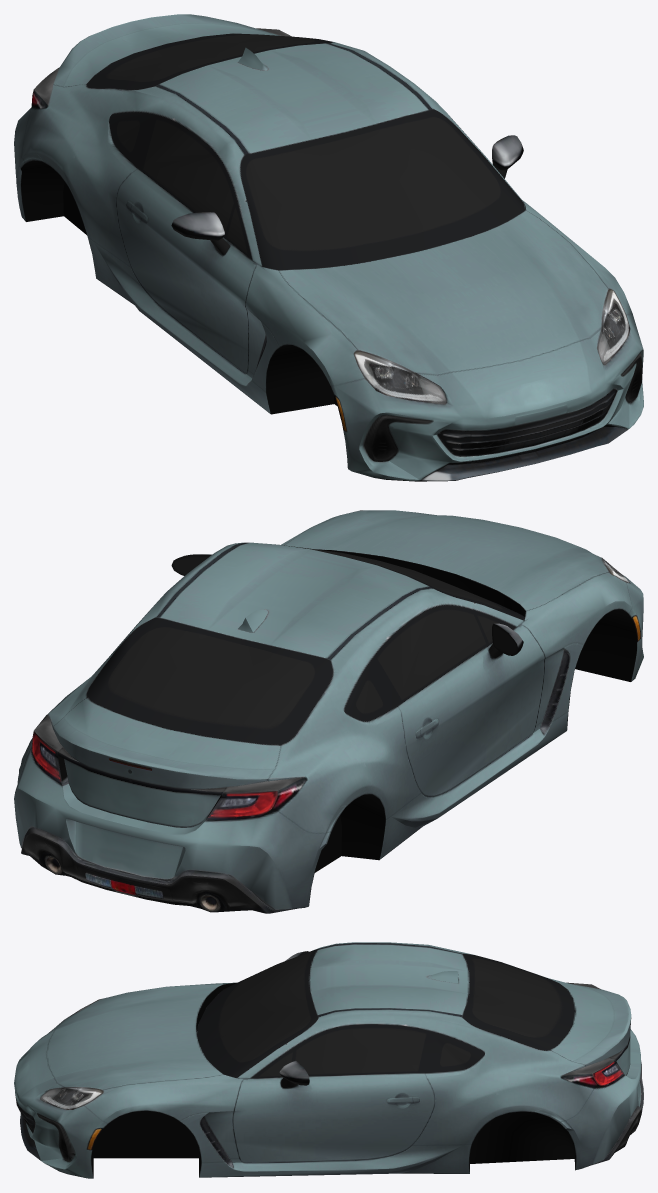
Rendered from car 9.fbx.
3 renders of one model, top to bottom at view 1: azimuth 30°, elevation 25°; view 2: azimuth 150°, elevation 25°; view 3: azimuth 270°, elevation 25°, orthographic. The views are drawn at different scales.
Parts seen in each view (by area): view 1: Car_7; view 2: Car_7; view 3: Car_7.
Part boxes in pixels (x1,y1,x2,y2): Car_7: (14, 14, 643, 481); Car_7: (14, 510, 643, 913); Car_7: (14, 942, 643, 1178).
Size of the model in its own units: 405 by 234 by 851.
